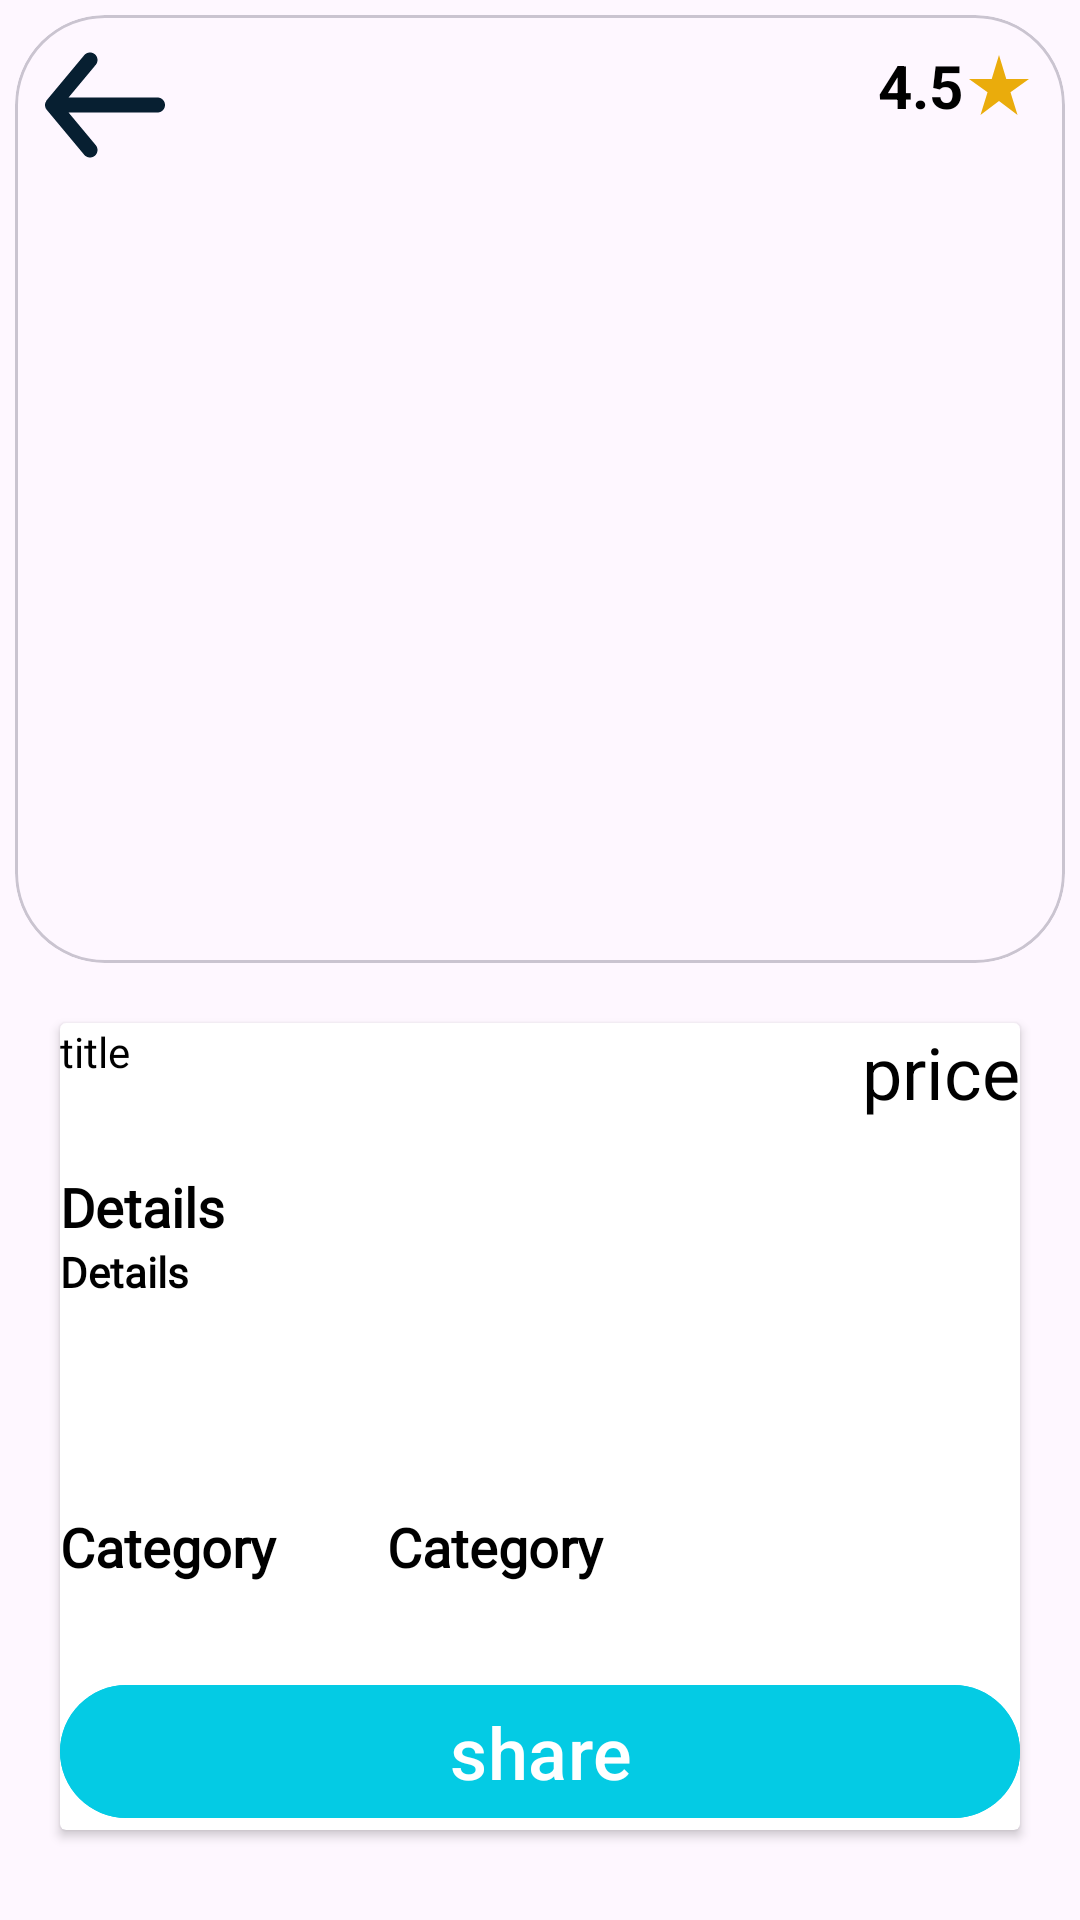

Locate icon controls on the screen. Image size 1080 × 1920, boxes as box(x1, y1, x2, y2).
arrow back: box(45, 52, 165, 158)
